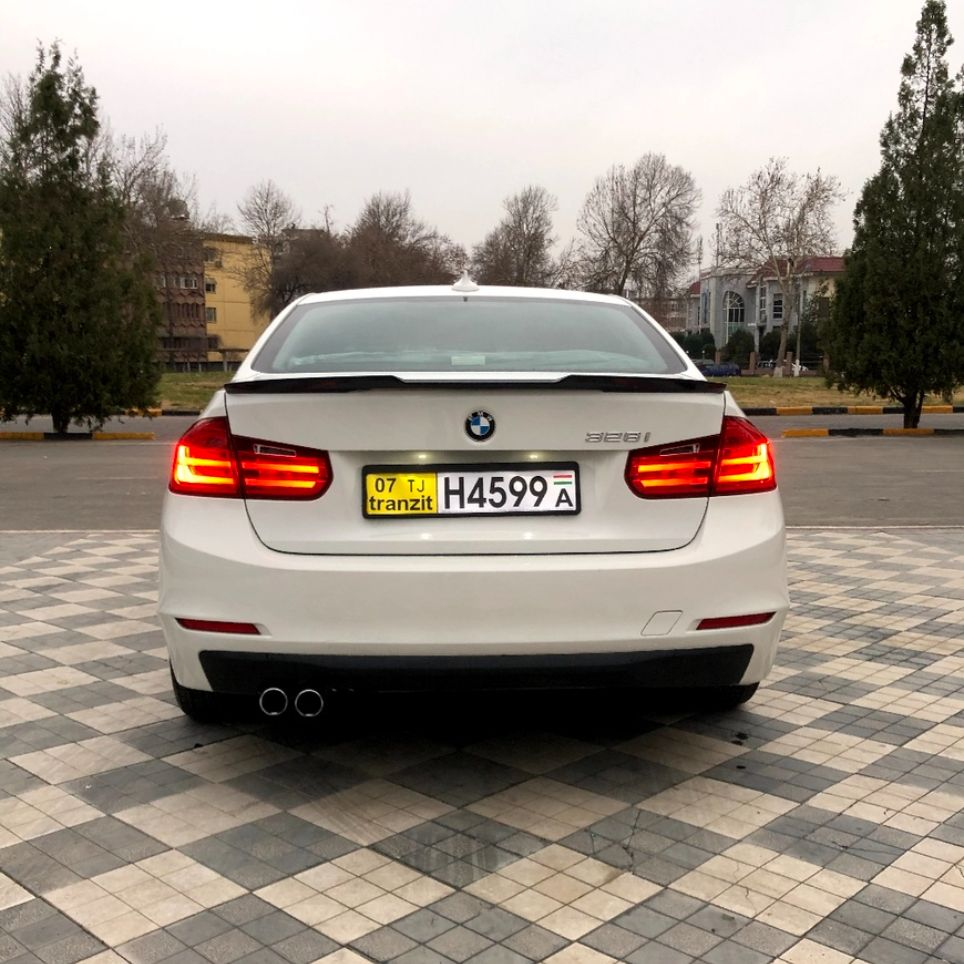license plate: (360, 470, 578, 519)
truck: (145, 272, 823, 752)
